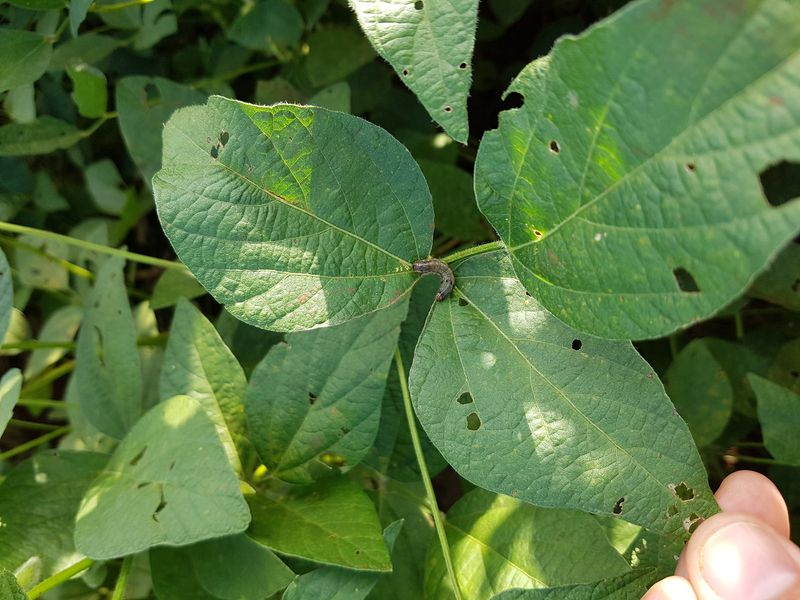Spodoptera_albula: (399, 251, 466, 309)
